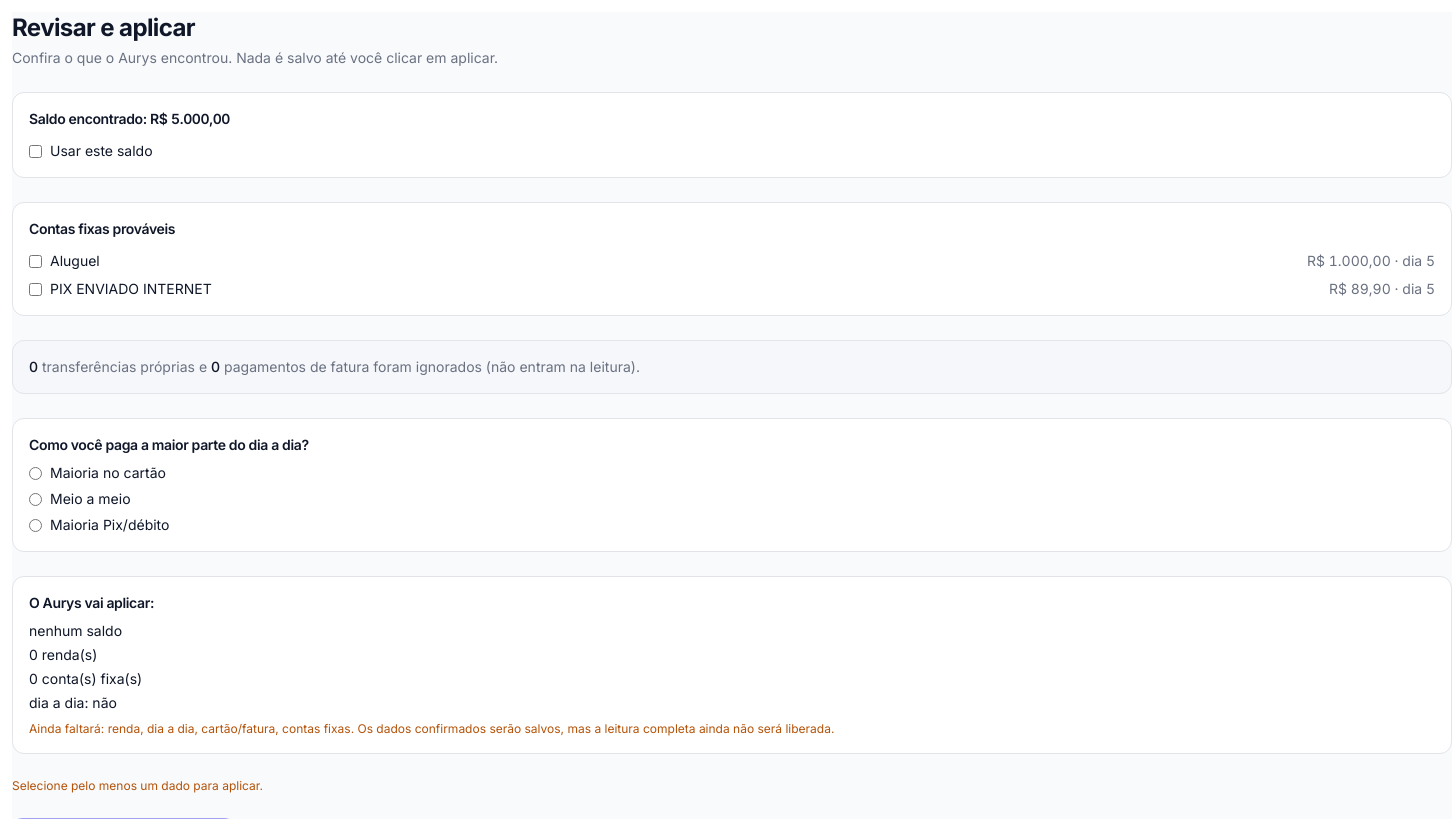
Test: integração: escolhas da revisão refletem no preview › detected_balance NULO no batch → coalesce do summary faz o saldo aplicar
What coordinates should you click on to do the following:
click the checkbox labelled "Usar este saldo"
I would click on:
 (36, 151)
Its box is [29, 144, 42, 158].
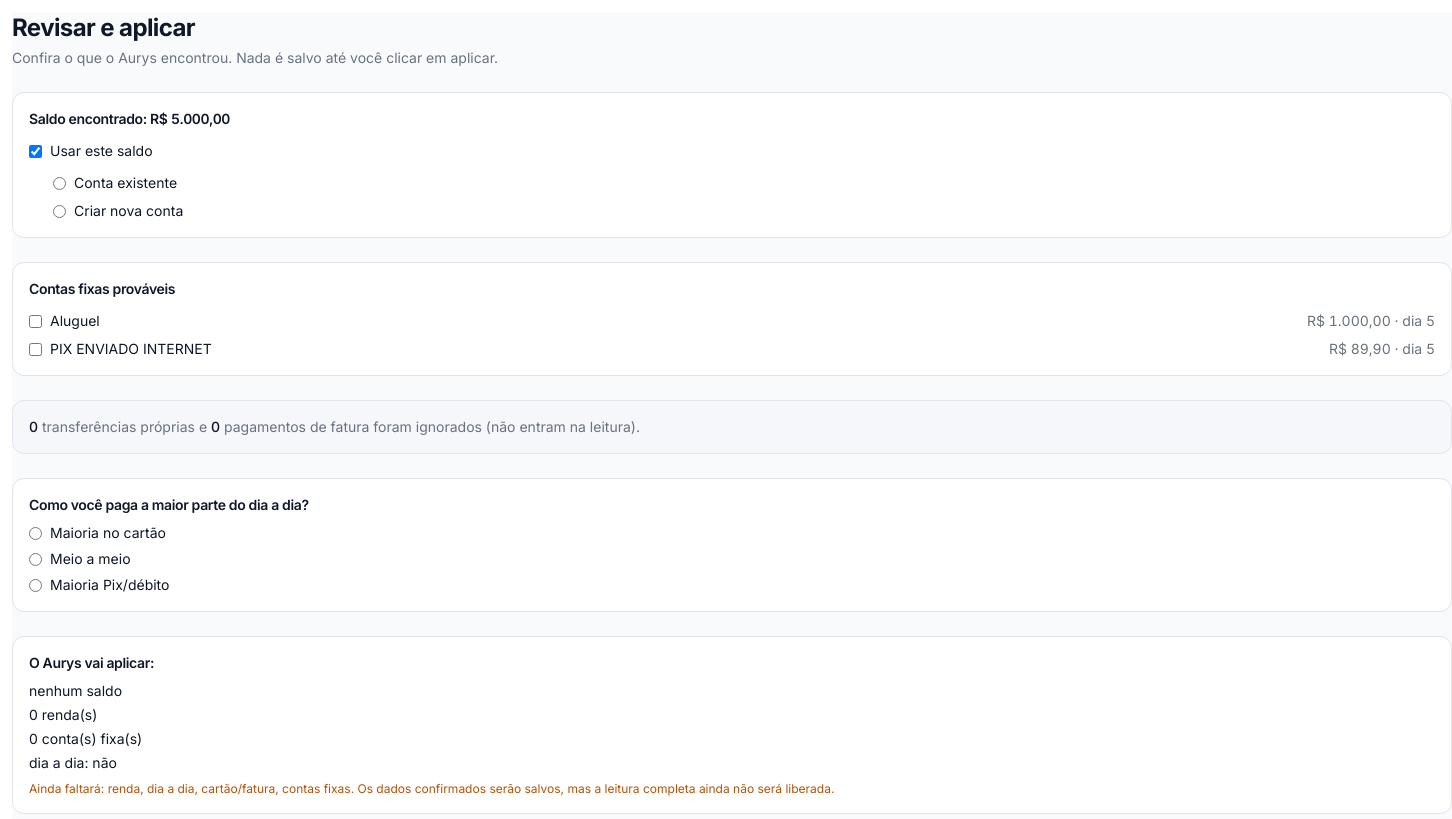
What coordinates should you click on to do the following:
click the radio button labelled "Conta existente"
I would click on:
 (60, 183)
Its box is [53, 176, 66, 190].
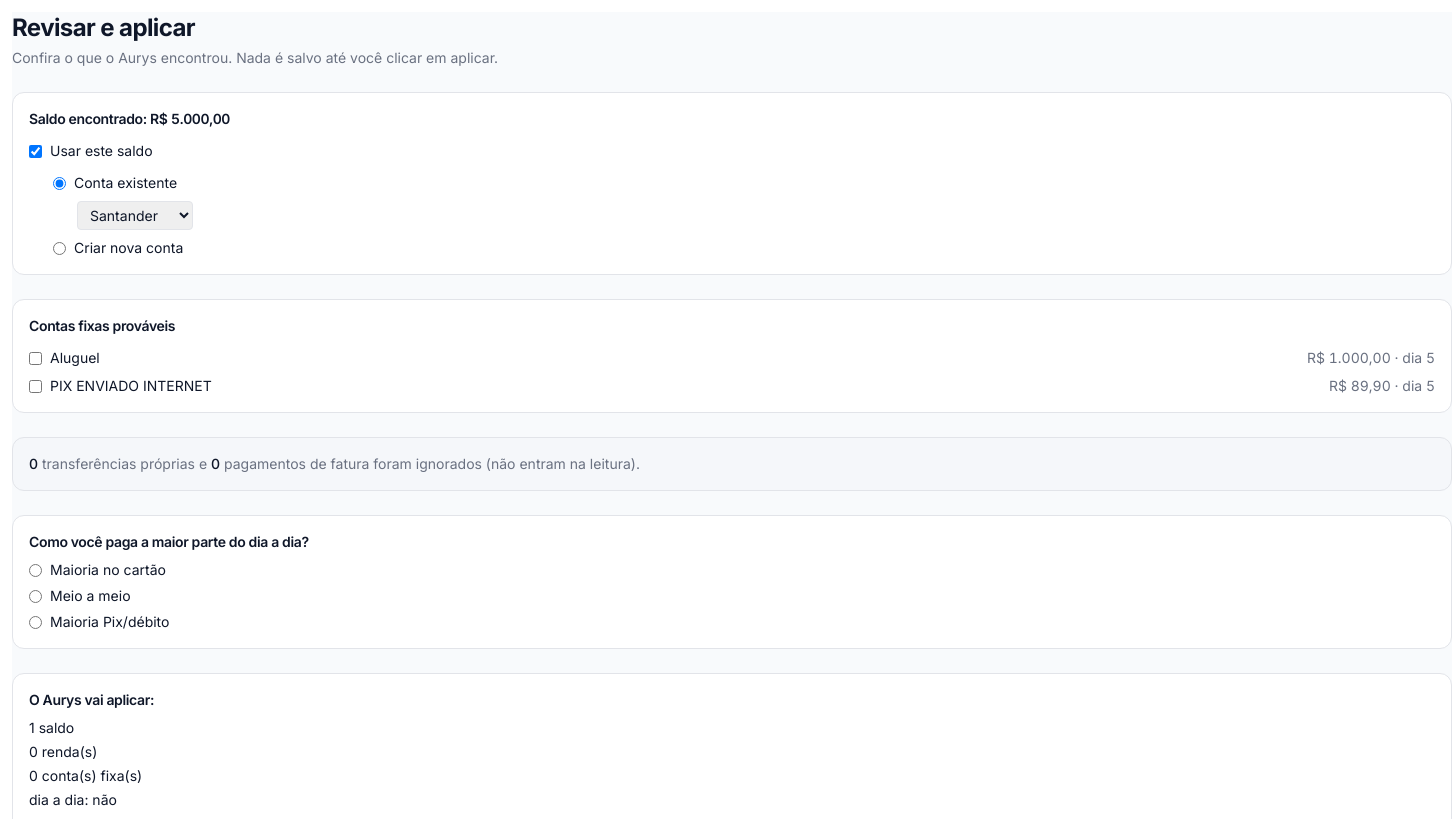
expect the list item "1 saldo" is shown: met, box [29, 719, 74, 736]
